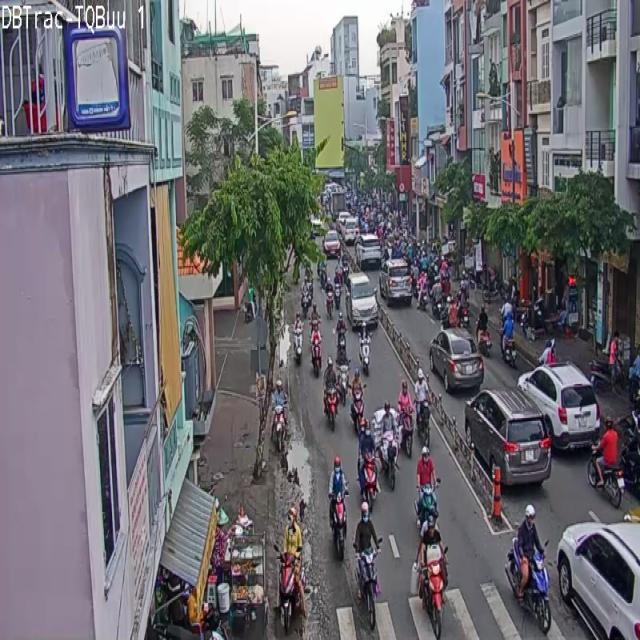car: (506, 505, 551, 633), (354, 502, 381, 629), (418, 540, 447, 639), (278, 546, 306, 631), (330, 457, 347, 559), (361, 458, 378, 508), (381, 438, 396, 489), (350, 391, 363, 432), (327, 390, 336, 430)
traffic-light: (557, 522, 639, 639), (464, 387, 550, 485), (518, 364, 599, 448), (430, 329, 483, 391), (345, 273, 378, 327)
